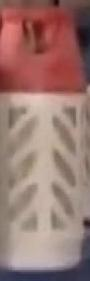cylinder: (1, 1, 90, 281)
